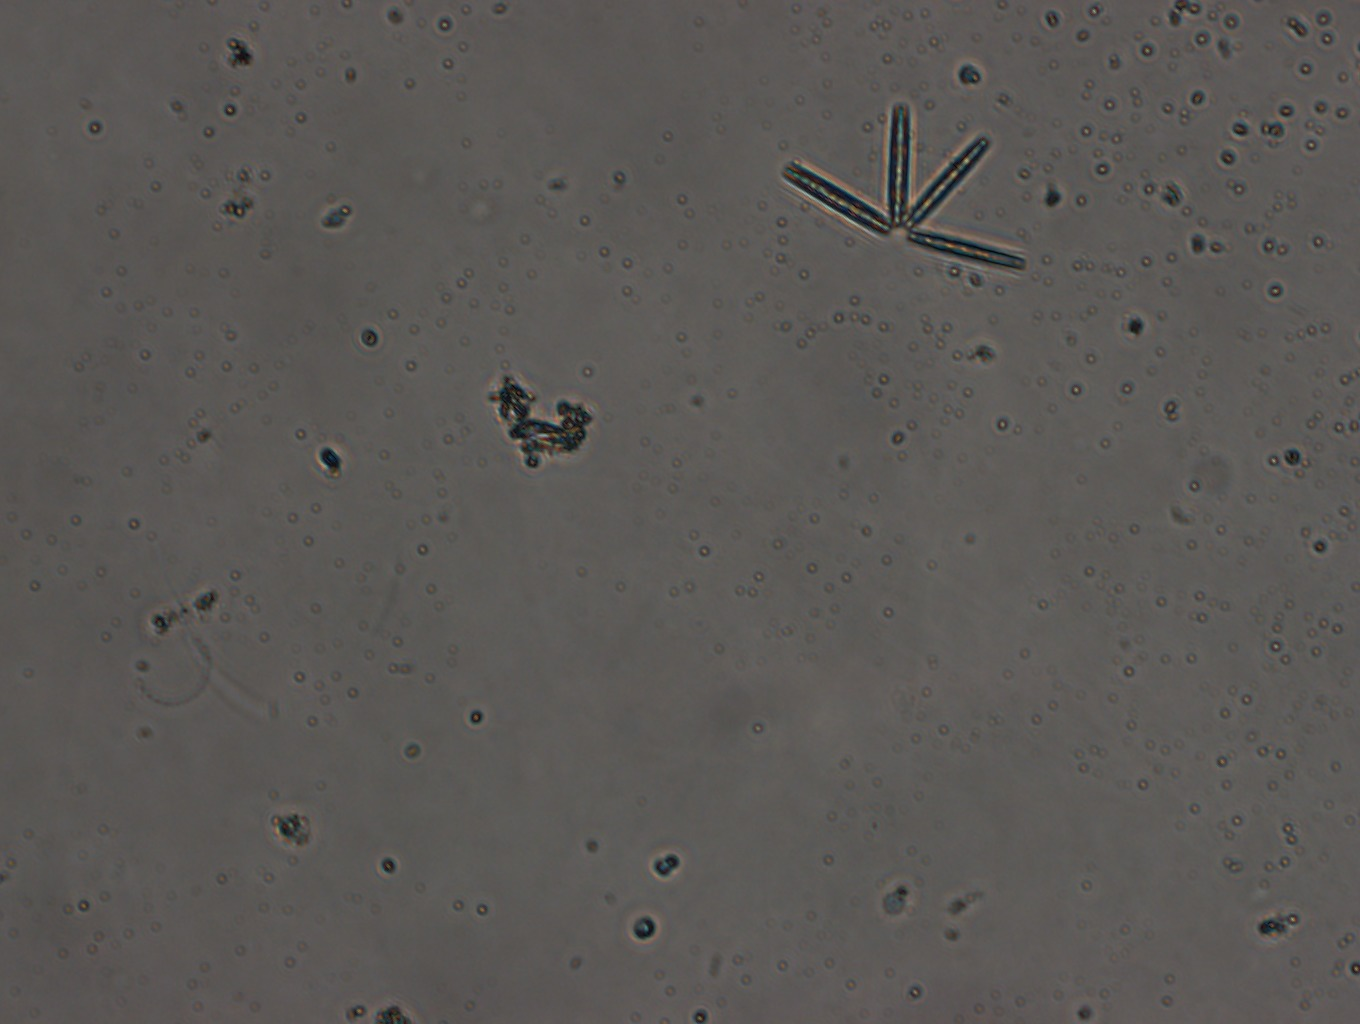thalassionema nitzschioides: (781, 101, 1025, 269)
